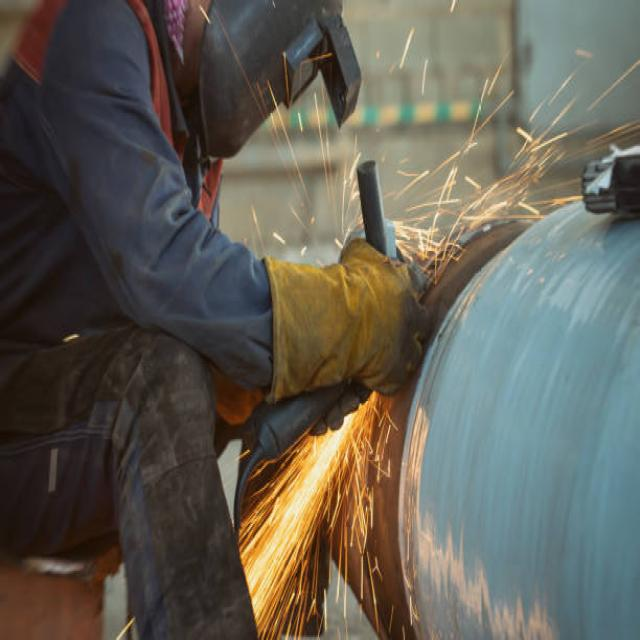Gloves: (248, 224, 434, 412)
person: (0, 0, 363, 640)
